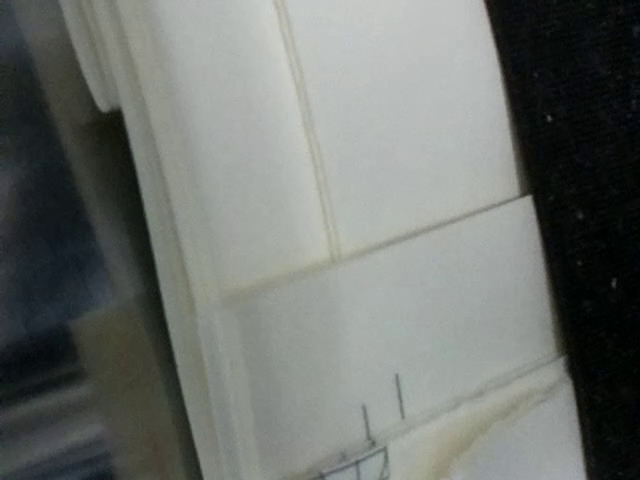not_sure: (270, 406, 396, 480)
